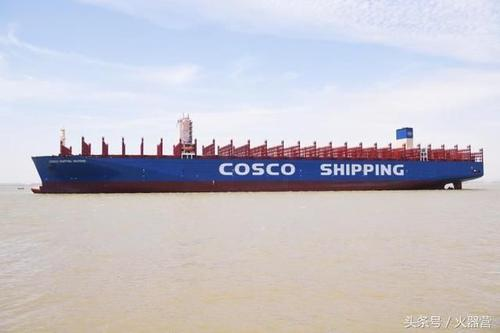Cargoship: (26, 108, 489, 195)
